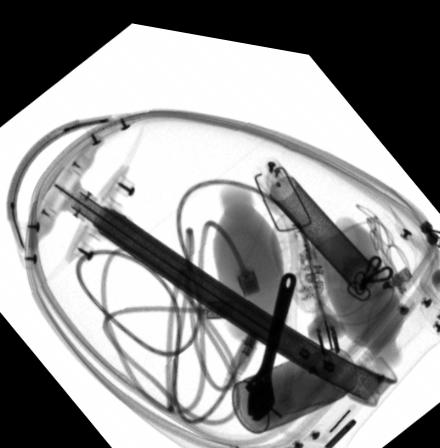Wrench: (242, 260, 296, 412)
